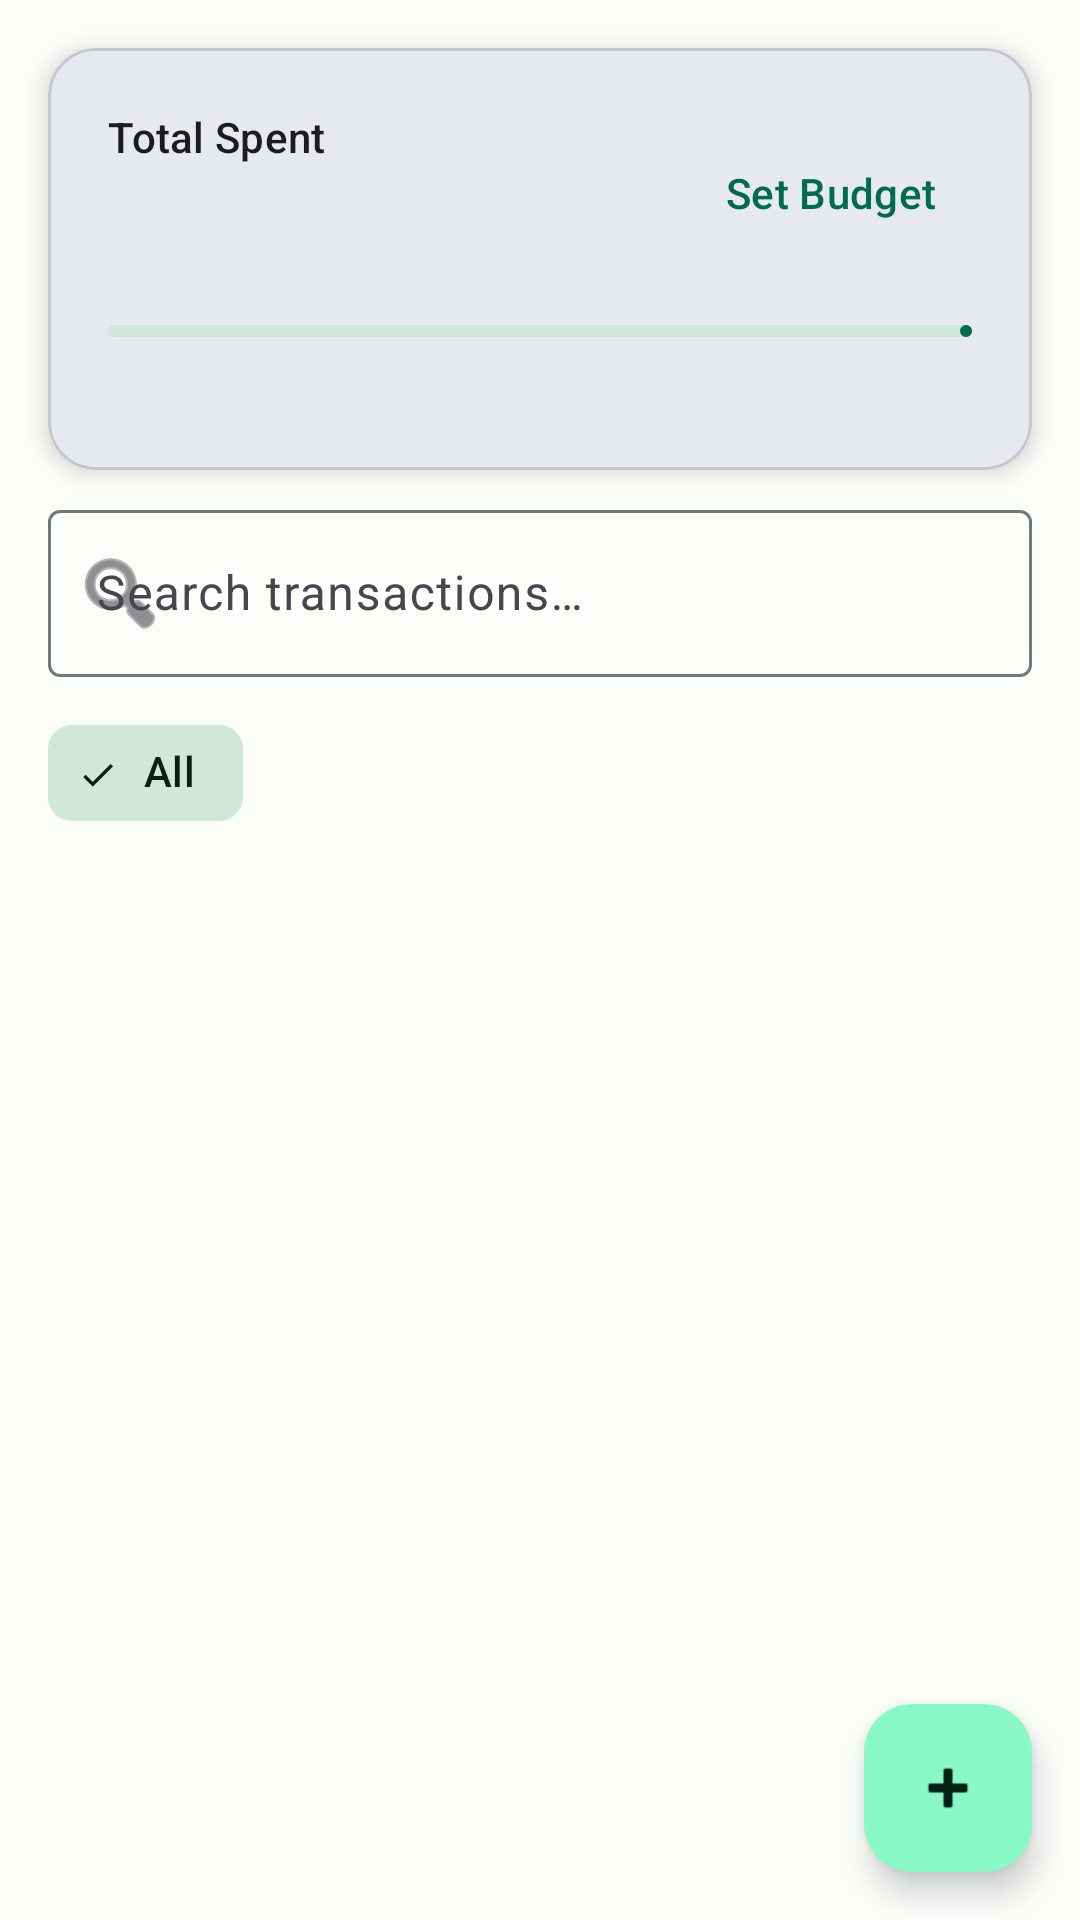

Icons on this 1080x1920 Android screen, each with the point to tap as (x,y):
Add Payment: (948,1788)
